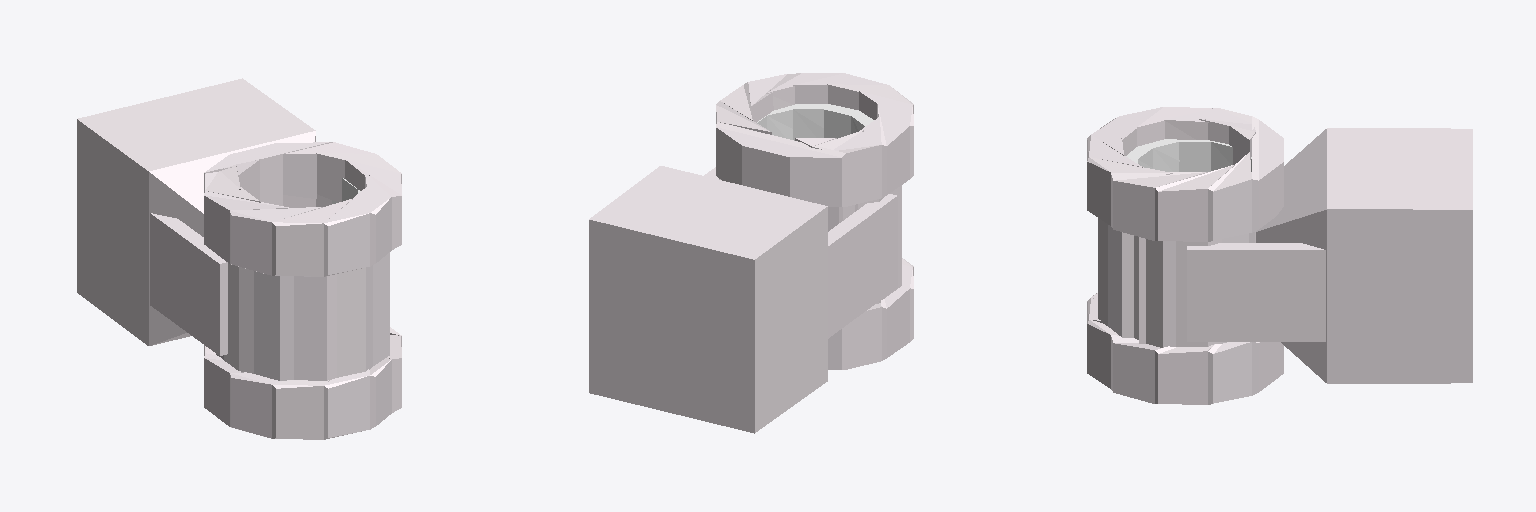
File: billblaster_single.obj
3 views of the same model, side by side, from view 1: azimuth 30°, elevation 25°; view 2: azimuth 150°, elevation 25°; view 3: azimuth 270°, elevation 25° (orthographic).
Visible parts, largest first — view 1: billblaster_single; view 2: billblaster_single; view 3: billblaster_single.
Part boxes in pixels (left/top/right/bottom): billblaster_single: left=77, top=78, right=401, bottom=439; billblaster_single: left=589, top=73, right=913, bottom=433; billblaster_single: left=1087, top=107, right=1472, bottom=404.
Size of the model in its own units: 38.68 by 47.56 by 75.5.